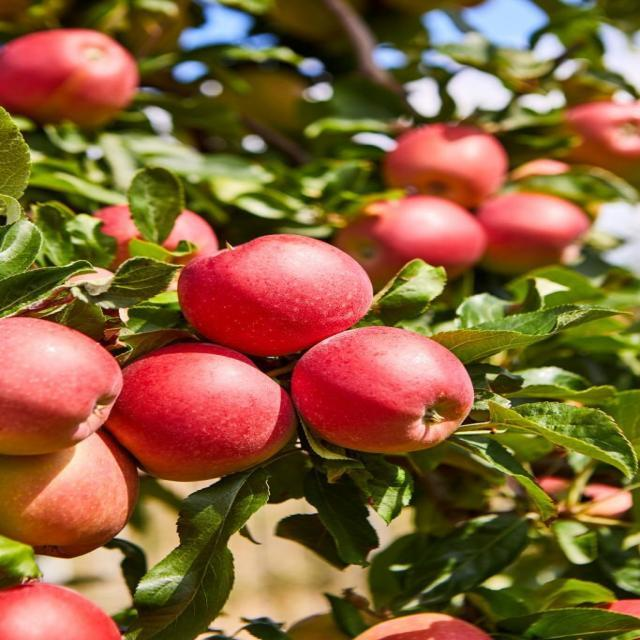Red Apple: (106, 338, 311, 477), (178, 234, 368, 361), (294, 323, 474, 456), (1, 317, 122, 456), (2, 431, 138, 552), (2, 25, 136, 128), (336, 191, 483, 282), (87, 201, 216, 291), (386, 117, 511, 203), (469, 191, 585, 269), (550, 106, 640, 191), (1, 575, 114, 640), (344, 611, 504, 640)
